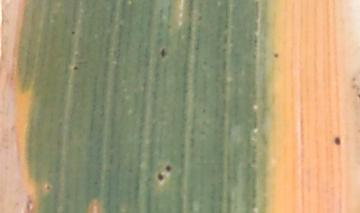tarspot: (156, 171, 165, 184), (332, 135, 341, 146), (159, 47, 166, 59), (195, 13, 204, 22), (271, 51, 281, 59), (71, 64, 80, 72), (164, 163, 171, 172), (44, 183, 51, 192), (200, 106, 207, 114), (70, 29, 76, 36), (356, 92, 360, 100)
